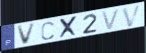2: (81, 13, 98, 35)
C: (41, 21, 56, 41)
V: (100, 7, 122, 32), (121, 3, 143, 28), (16, 22, 37, 46)
X: (59, 15, 80, 39)
